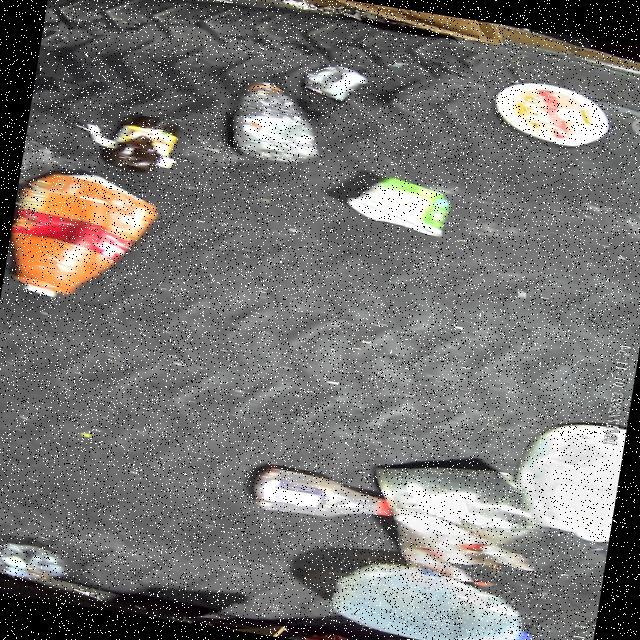milk-jug: (320, 545, 546, 640)
